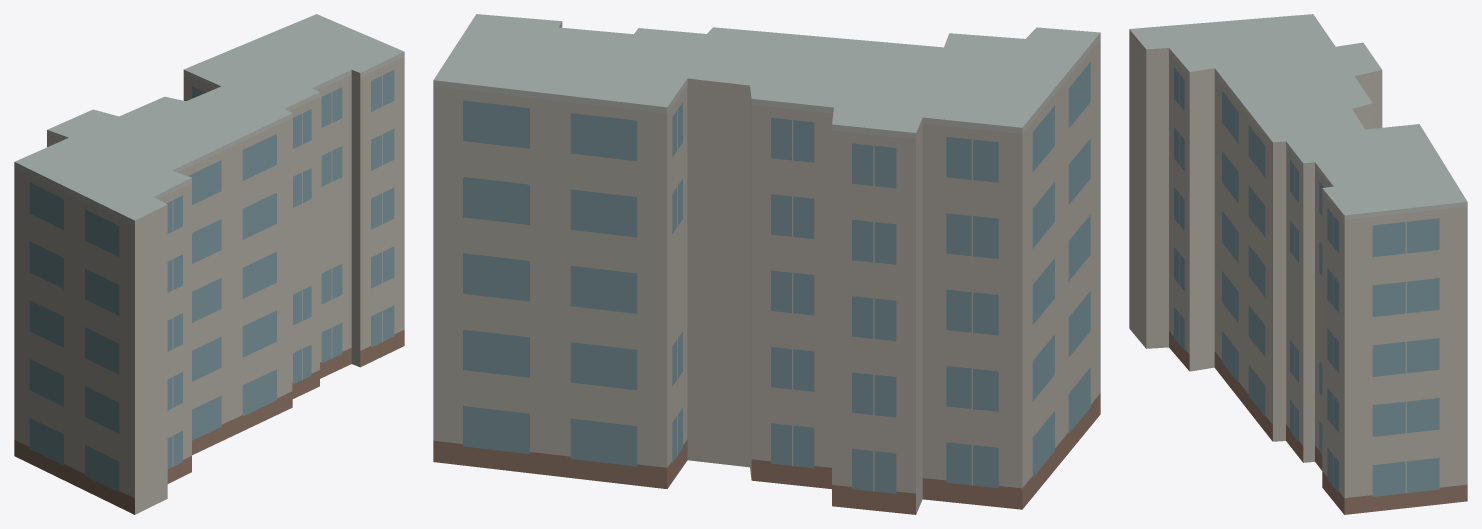
The model's file is survey-upis-32518039.glb.
3 views of the same model, side by side, from view 1: azimuth 30°, elevation 25°; view 2: azimuth 150°, elevation 25°; view 3: azimuth 270°, elevation 25° (orthographic). The views are drawn at different scales.
Visible parts, largest first — view 1: survey-upis-32518039.tmp; view 2: survey-upis-32518039.tmp; view 3: survey-upis-32518039.tmp.
Boxes of the visible parts, left/top/right/bottom form: survey-upis-32518039.tmp: left=14, top=14, right=404, bottom=514; survey-upis-32518039.tmp: left=433, top=14, right=1100, bottom=514; survey-upis-32518039.tmp: left=1129, top=14, right=1467, bottom=514.
Bounding box in the file's own units: 22 × 15.25 × 15.62.
